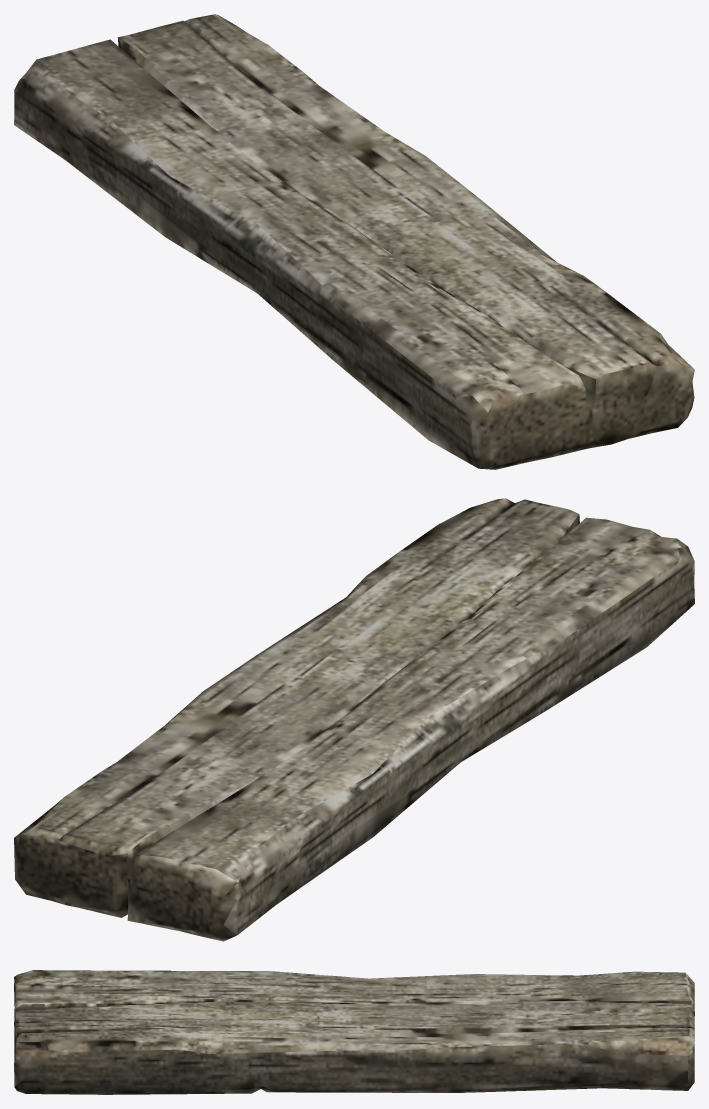
File: BridgePlank.gltf
The picture shows the model from 3 angles, top to bottom: view 1: azimuth 30°, elevation 25°; view 2: azimuth 150°, elevation 25°; view 3: azimuth 270°, elevation 25°; orthographic projection. The views are drawn at different scales.
Parts seen in each view (by area): view 1: lo; view 2: lo; view 3: lo.
Boxes of the visible parts, x1=… form: lo: x1=14, y1=14, x2=694, y2=469; lo: x1=14, y1=498, x2=694, y2=941; lo: x1=14, y1=970, x2=694, y2=1094.
Bounding box in the file's own units: 0.7302 × 0.2363 × 2.65.
Materials: 1 (1 with a texture image).
